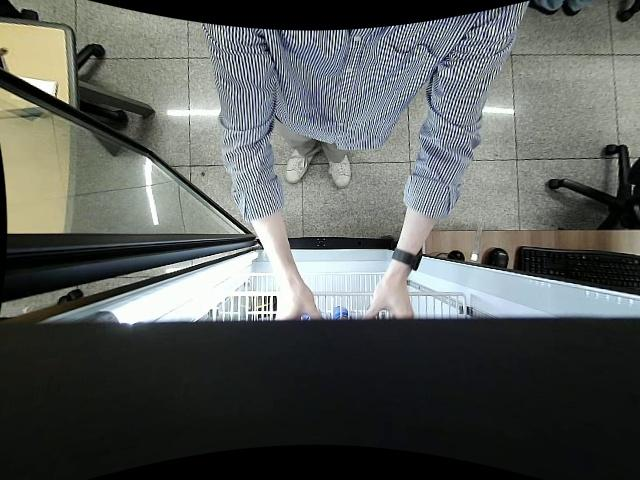00_hand: (279, 278, 326, 327), (359, 278, 414, 319)
